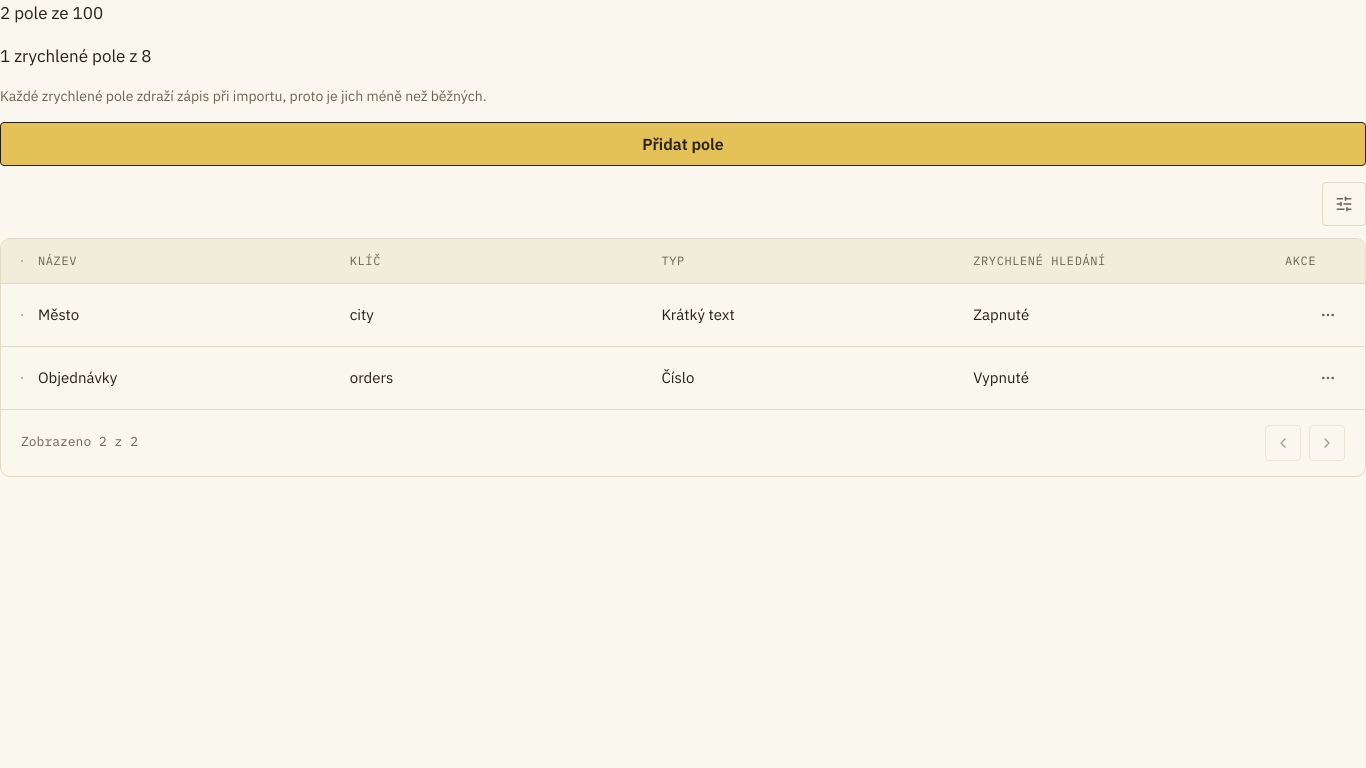
FieldsTable › dialog přejmenování řekne, že klíč ani typ se nemění
Click the button with test id "field-row-menu-city".
click(1328, 315)  # box [1311,298,1345,332]
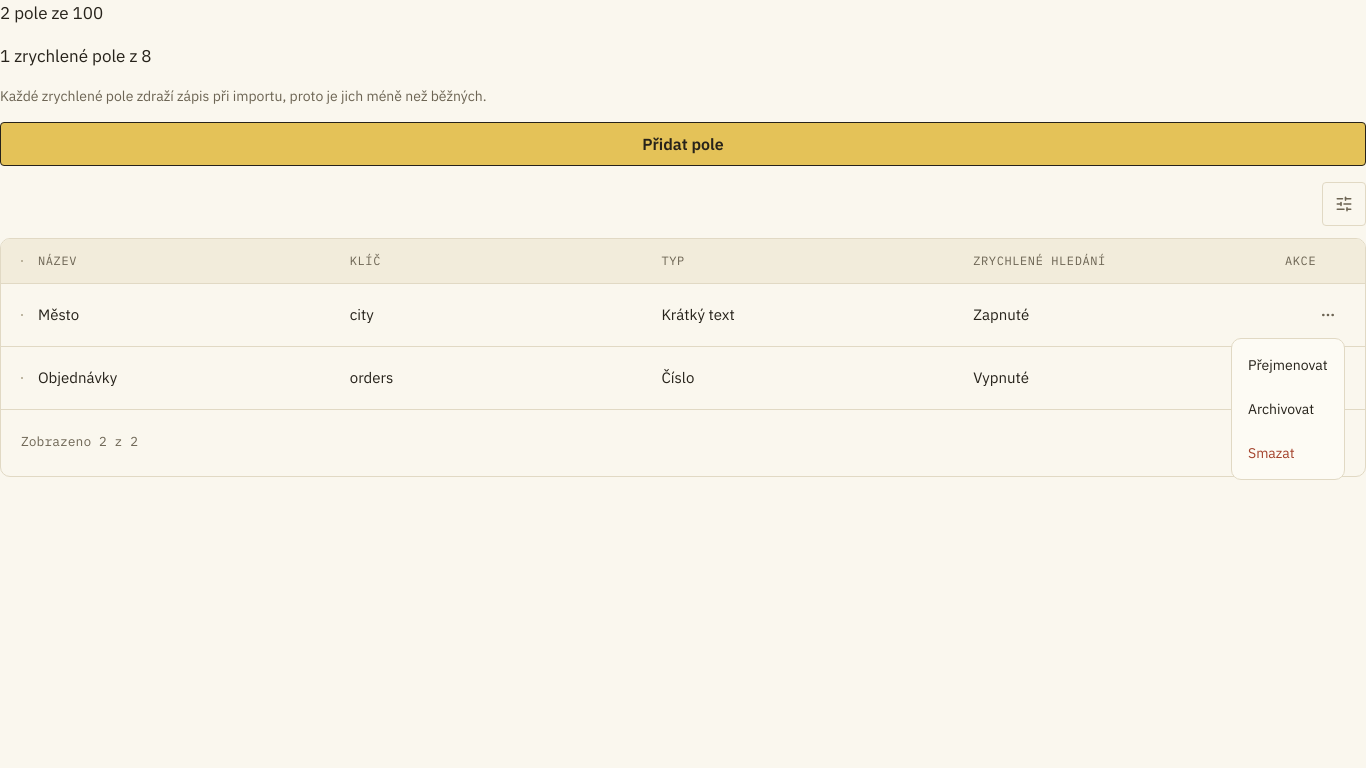
Click the menu item "Přejmenovat".
click(1288, 365)  # box [1248,356,1328,374]
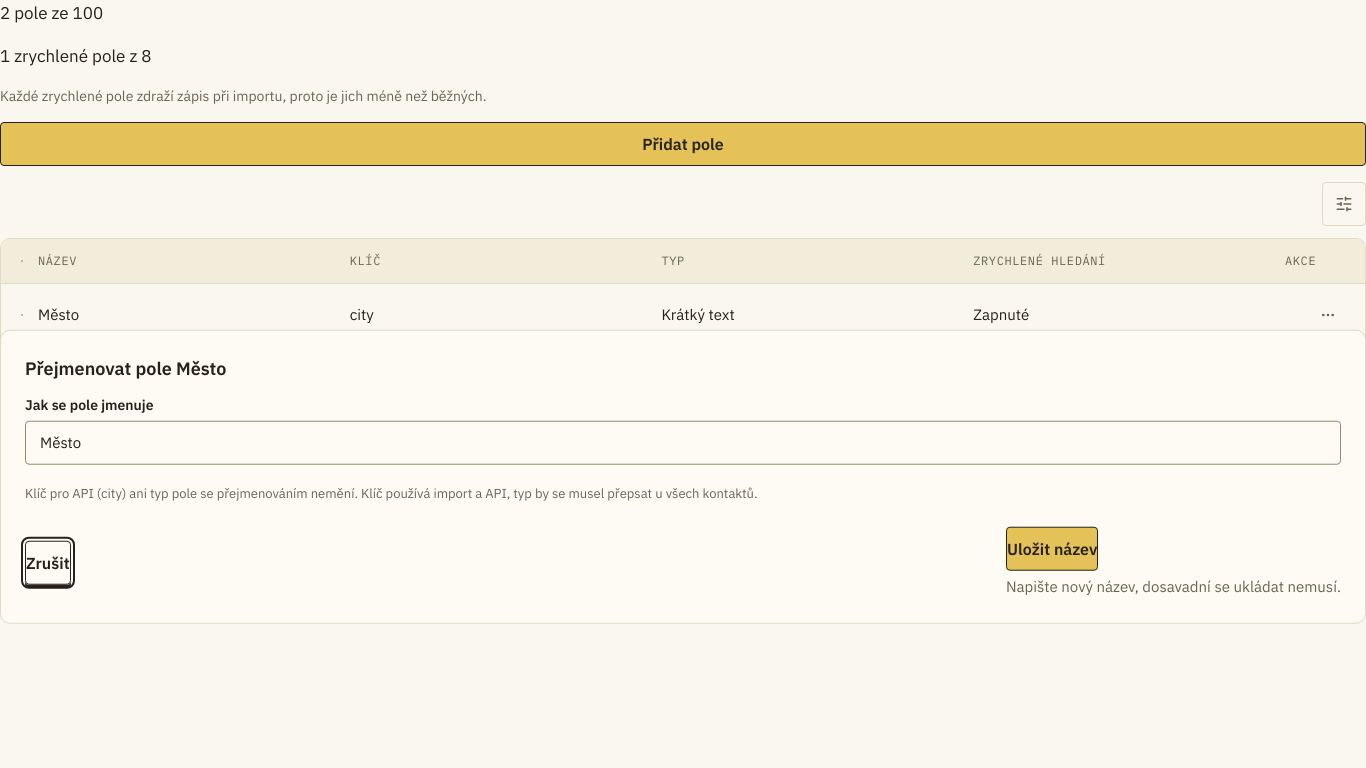
Expected: the text with test id "rename-field-locked" shows "city", [25,484,758,501]
